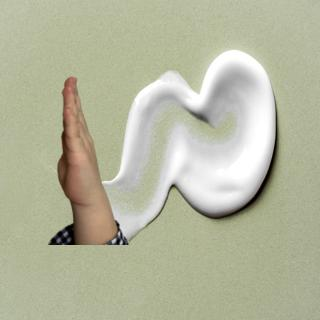RIGHT: (51, 72, 109, 207)
